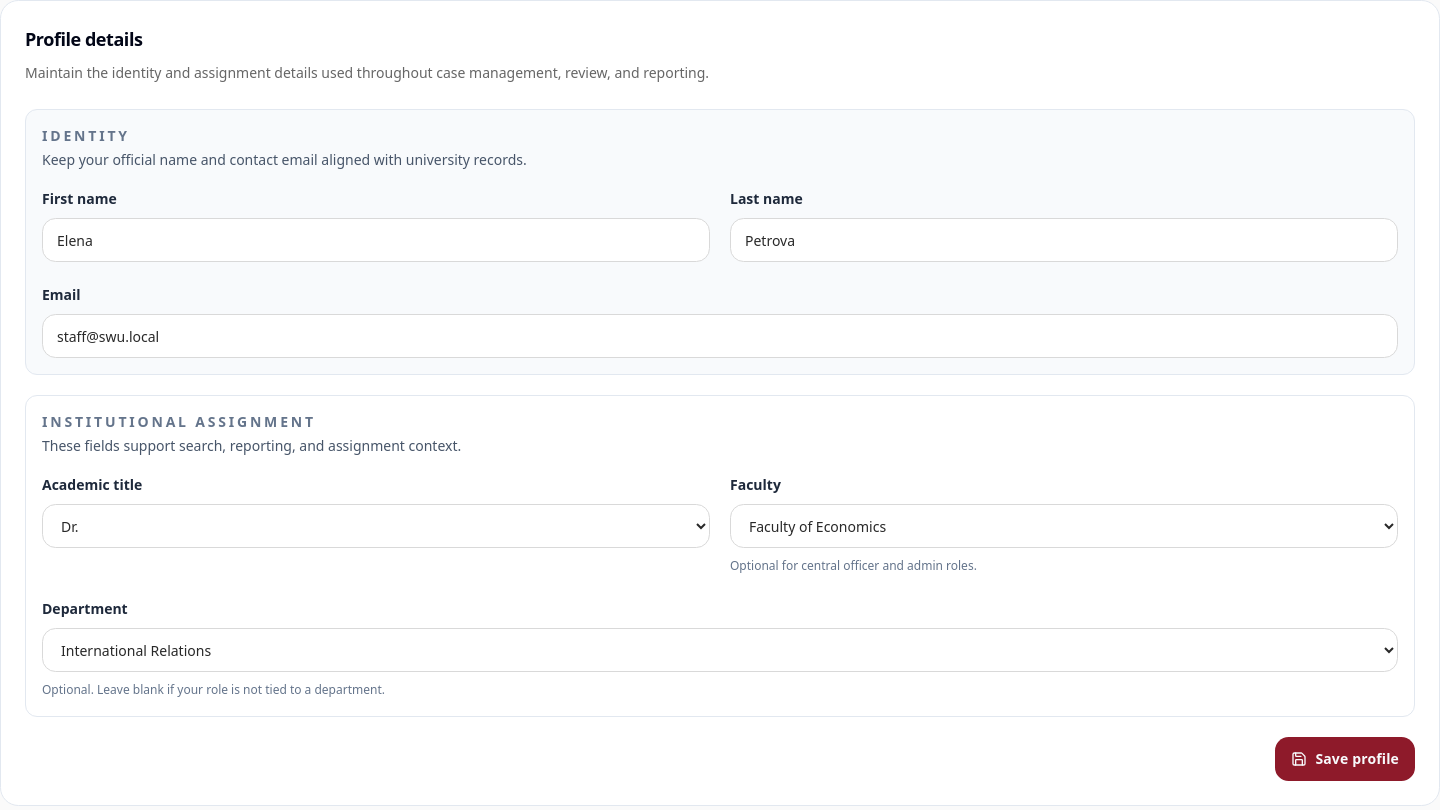
ProfileForm › resets the department when the faculty changes
Expected: the field labelled "First name" is enabled, top-left (42, 218), bottom-right (710, 262)
Select "Faculty of Law and History" in the dropdown labelled "Faculty" at point(1064, 526), box top-left (730, 504), bottom-right (1398, 548)
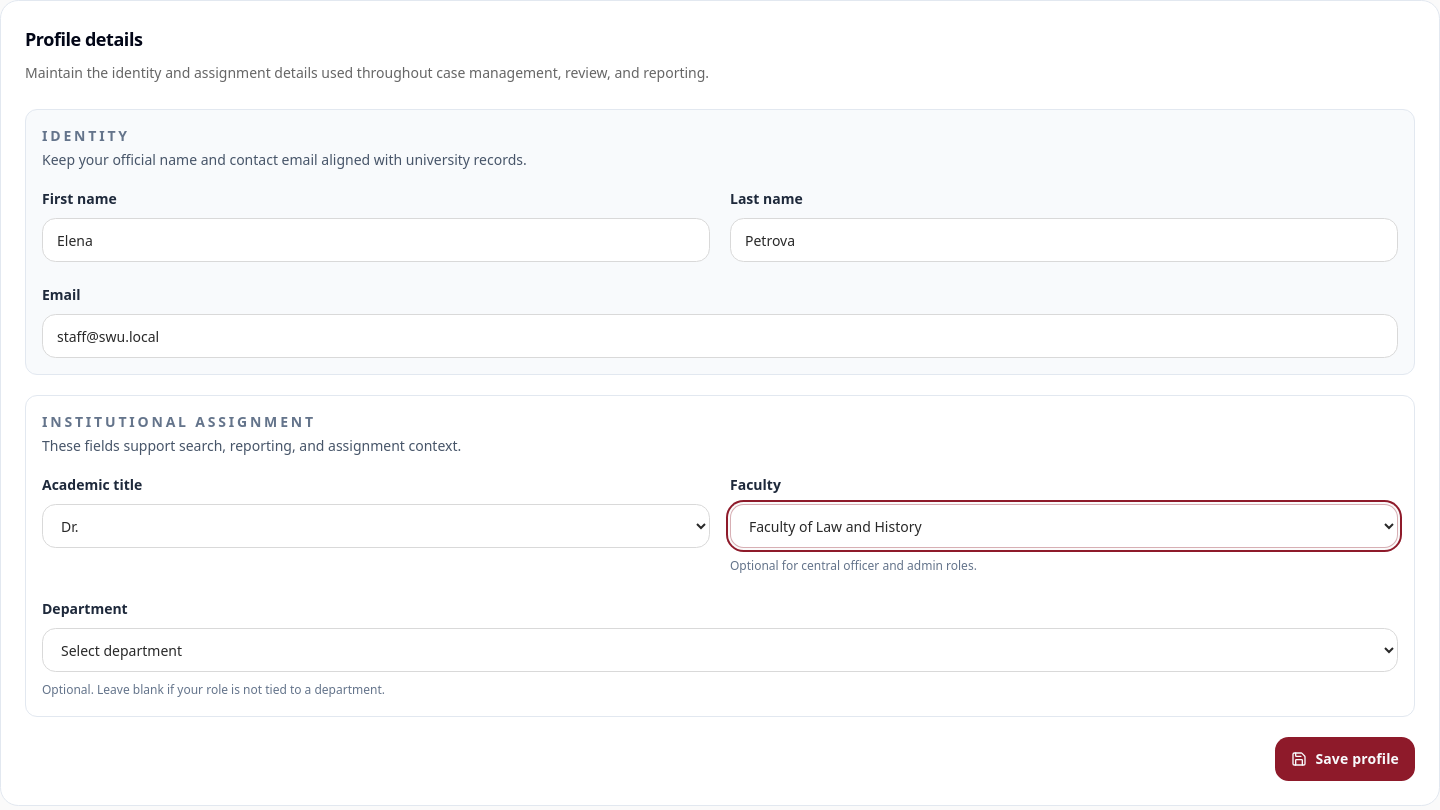
Now the dropdown labelled "Department" shows "Select department", box top-left (42, 628), bottom-right (1398, 672)
